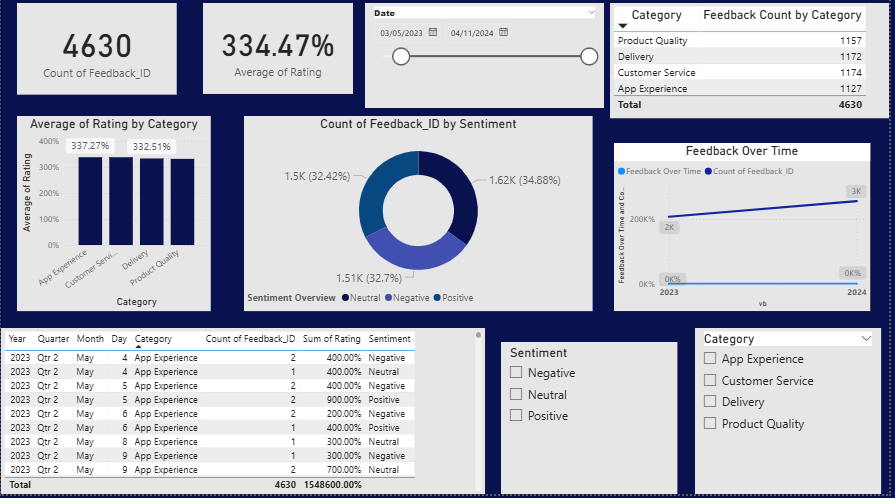

The dashboard page shown, as its layout file describes it:
{"tool":"powerbi","page":{"name":"Customer Feedback Analysis","canvas":[1280,720],"ordinal":0},"visuals":[{"type":"donutChart","fields":{"Category":["archive (4).Sentiment"],"Y":["CountNonNull(archive (4).Feedback_ID)"]},"box":[349.4,176.4,502.3,280.5],"z":0},{"type":"tableEx","fields":{"Values":["archive (4).Category","CountNonNull(archive (4).Feedback_ID)"]},"box":[877,13,403.2,165.6],"z":1000},{"type":"card","fields":{"Values":["Avg(archive (4).Rating)"]},"box":[290.9,13,216,131],"z":2000},{"type":"lineStackedColumnComboChart","fields":{"Category":["archive (4).Category"],"Y":["Avg(archive (4).Rating)"]},"box":[23,175.7,279.4,280.8],"z":3000},{"type":"slicer","fields":{"Values":["archive (4).Category"]},"box":[999.4,481,267.8,239],"z":4000},{"type":"slicer","fields":{"Values":["archive (4).Sentiment"]},"box":[720.6,500.6,253.6,220.1],"z":5000},{"type":"lineChart","title":"Feedback Over Time ","fields":{"Category":["archive (4).Date.Variation.Date Hierarchy.Year","archive (4).Date.Variation.Date Hierarchy.Quarter","archive (4).Date.Variation.Date Hierarchy.Month","archive (4).Date.Variation.Date Hierarchy.Day"],"Y":["Avg(archive (4).Rating)","CountNonNull(archive (4).Feedback_ID)"]},"box":[882.7,214.6,368.6,241.9],"z":6000},{"type":"card","fields":{"Values":["CountNonNull(archive (4).Feedback_ID)"]},"box":[23,13,230.4,132.5],"z":7000},{"type":"tableEx","fields":{"Values":["archive (4).Date.Variation.Date Hierarchy.Year","archive (4).Date.Variation.Date Hierarchy.Quarter","archive (4).Date.Variation.Date Hierarchy.Month","archive (4).Date.Variation.Date Hierarchy.Day","archive (4).Category","CountNonNull(archive (4).Feedback_ID)","Sum(archive (4).Rating)","archive (4).Sentiment"]},"box":[0,480.4,697.1,240.2],"z":8000},{"type":"slicer","fields":{"Values":["archive (4).Date"]},"box":[524.2,13,344.2,149.8],"z":9000}]}

Visuals, with their boxes in screenshot pixels (x1, y1, x2, y2), scaled from the page's 1280x720 canvas onto the 895x498 screenshot:
donutChart - archive (4).Sentiment x CountNonNull(archive (4).Feedback_ID): [x1=244, y1=122, x2=596, y2=316]
tableEx - archive (4).Category x CountNonNull(archive (4).Feedback_ID): [x1=613, y1=9, x2=894, y2=124]
card - Avg(archive (4).Rating): [x1=203, y1=9, x2=354, y2=100]
lineStackedColumnComboChart - archive (4).Category x Avg(archive (4).Rating): [x1=16, y1=122, x2=211, y2=316]
slicer - archive (4).Category: [x1=699, y1=333, x2=886, y2=497]
slicer - archive (4).Sentiment: [x1=504, y1=346, x2=681, y2=497]
"Feedback Over Time " lineChart: [x1=617, y1=148, x2=875, y2=316]
card - CountNonNull(archive (4).Feedback_ID): [x1=16, y1=9, x2=177, y2=101]
tableEx - archive (4).Date.Variation.Date Hierarchy.Year x archive (4).Date.Variation.Date Hierarchy.Quarter: [x1=0, y1=332, x2=487, y2=497]
slicer - archive (4).Date: [x1=367, y1=9, x2=607, y2=113]
